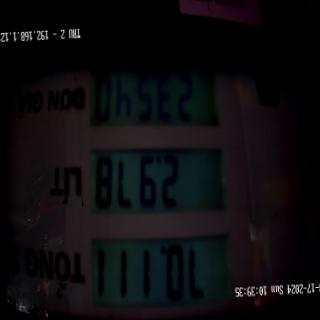screen: (68, 46, 245, 316)
